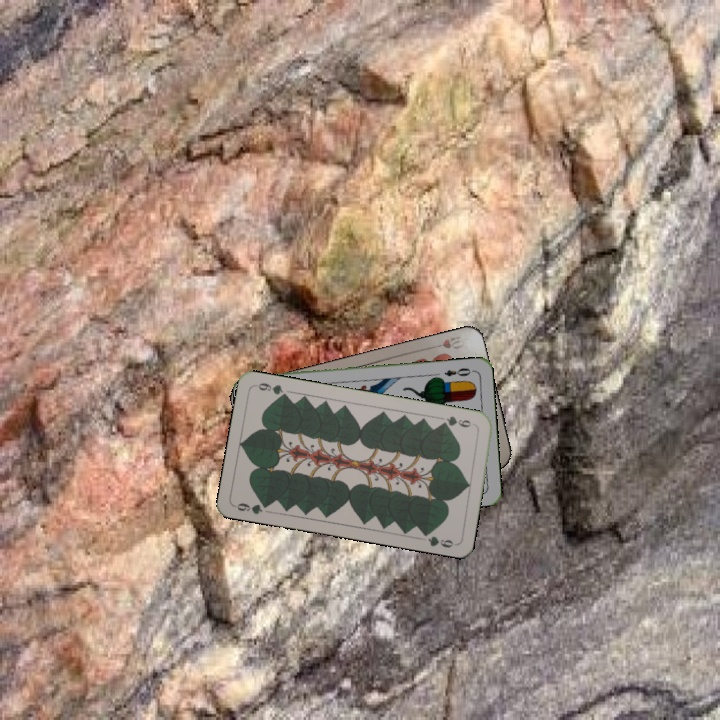EO: (440, 364, 473, 379)
G9: (231, 498, 273, 517), (437, 412, 478, 430)
H10: (427, 330, 468, 352)
